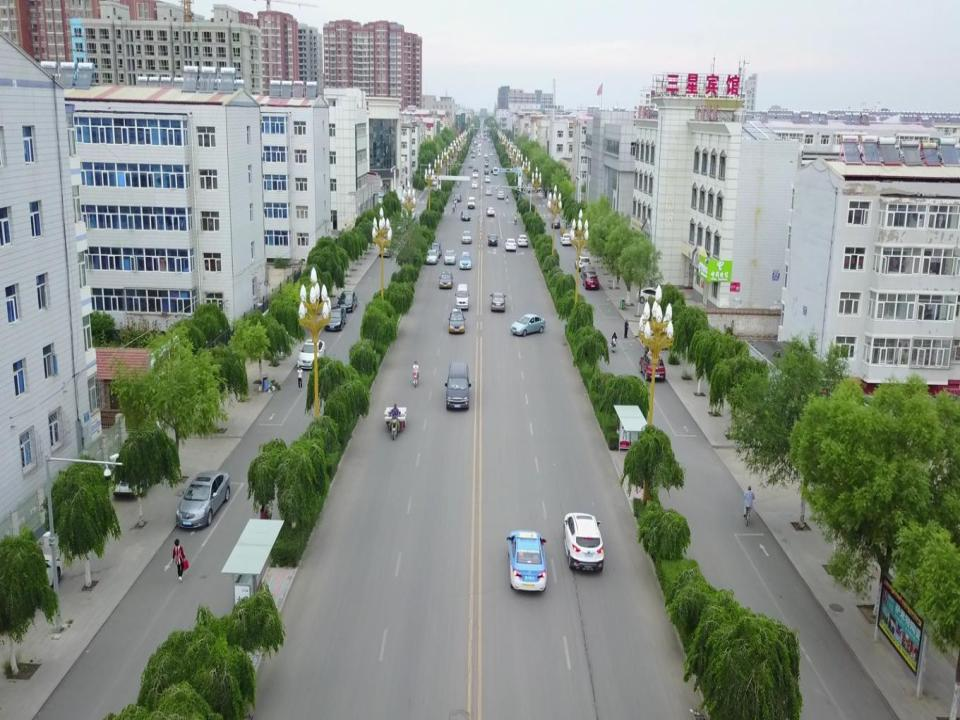car: (174, 470, 232, 528), (562, 510, 604, 574), (507, 531, 547, 595), (116, 454, 161, 498), (298, 339, 325, 370), (639, 351, 666, 382), (510, 313, 546, 336), (637, 287, 669, 307), (448, 309, 465, 335), (336, 290, 357, 311), (326, 309, 346, 330), (575, 255, 591, 272), (491, 292, 505, 310), (583, 273, 598, 289), (458, 252, 472, 269), (439, 271, 453, 287), (581, 266, 596, 280), (379, 244, 394, 257), (443, 250, 456, 264), (426, 250, 438, 264), (461, 231, 472, 244), (505, 238, 516, 250), (517, 234, 528, 246), (561, 233, 571, 246), (488, 234, 498, 246), (461, 211, 471, 221), (552, 218, 560, 229), (486, 207, 494, 217), (453, 193, 462, 201), (497, 191, 505, 200), (471, 181, 478, 188)
van: (446, 362, 470, 412), (456, 283, 469, 311), (468, 197, 475, 209), (485, 186, 492, 196)
